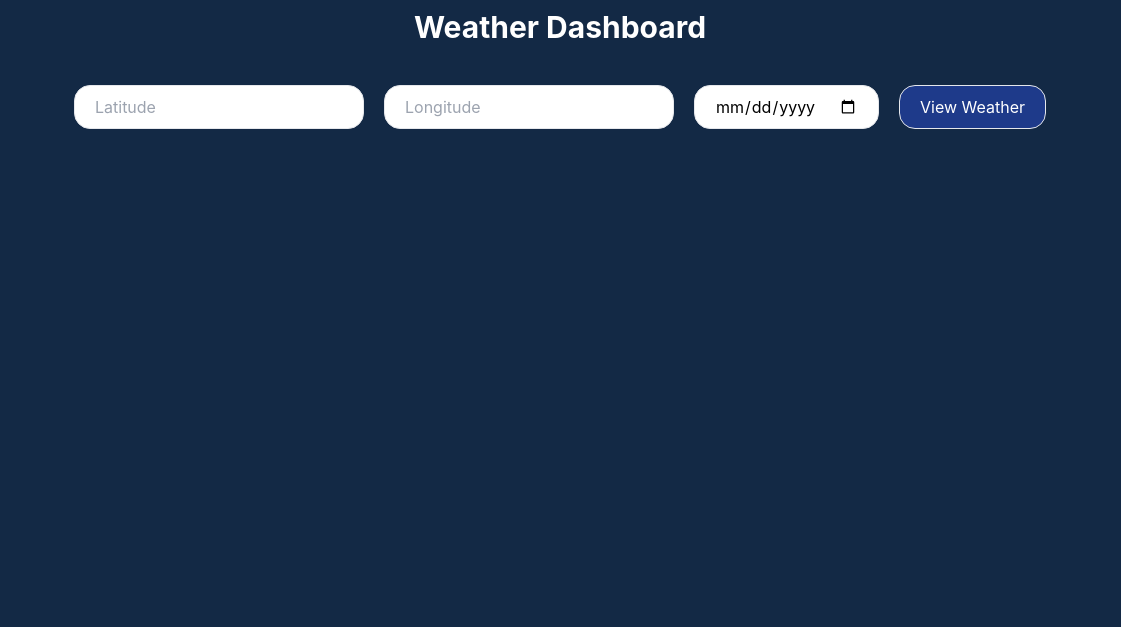
Test: fetches weather data
This screenshot has width=1121, height=627.
Type "57" into the number field with placeholder "Latitude" at x=219, y=107, box [74,85,364,129]
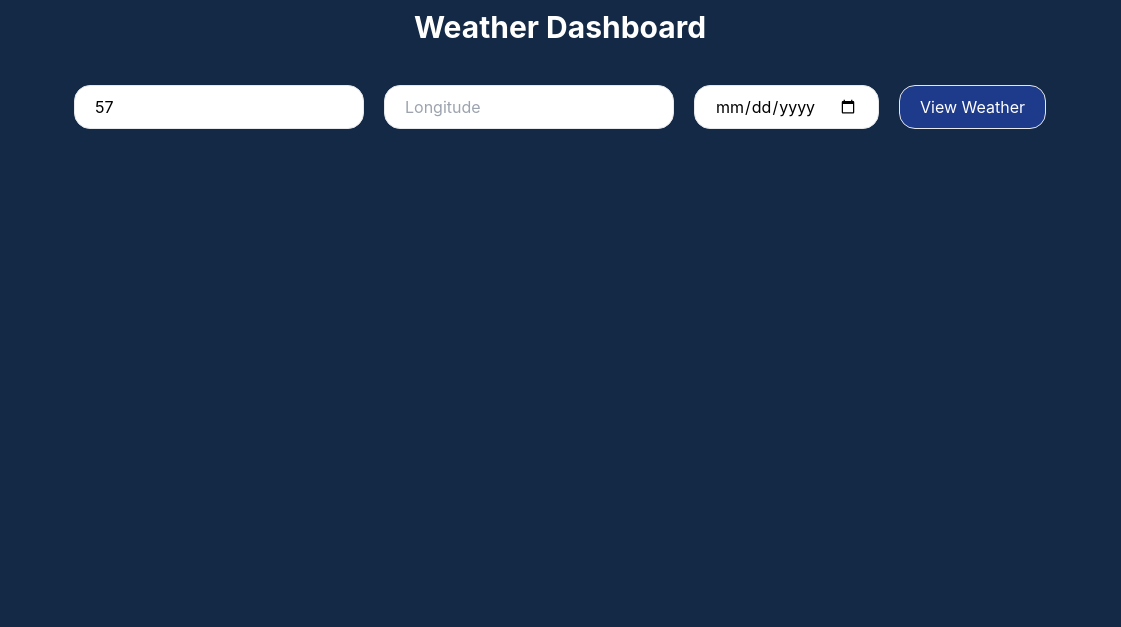
Type "54" into the number field with placeholder "Longitude" at x=529, y=107, box [384,85,674,129]
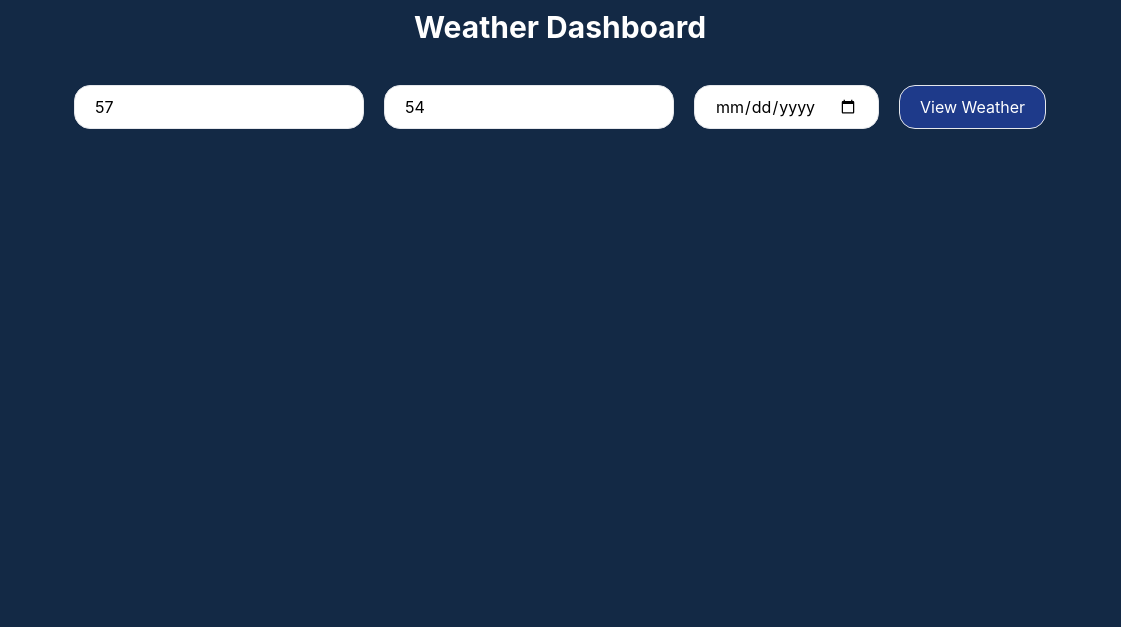
Type "2022-06-19" into the date field with placeholder "Date" at x=786, y=107, box [694,85,879,129]
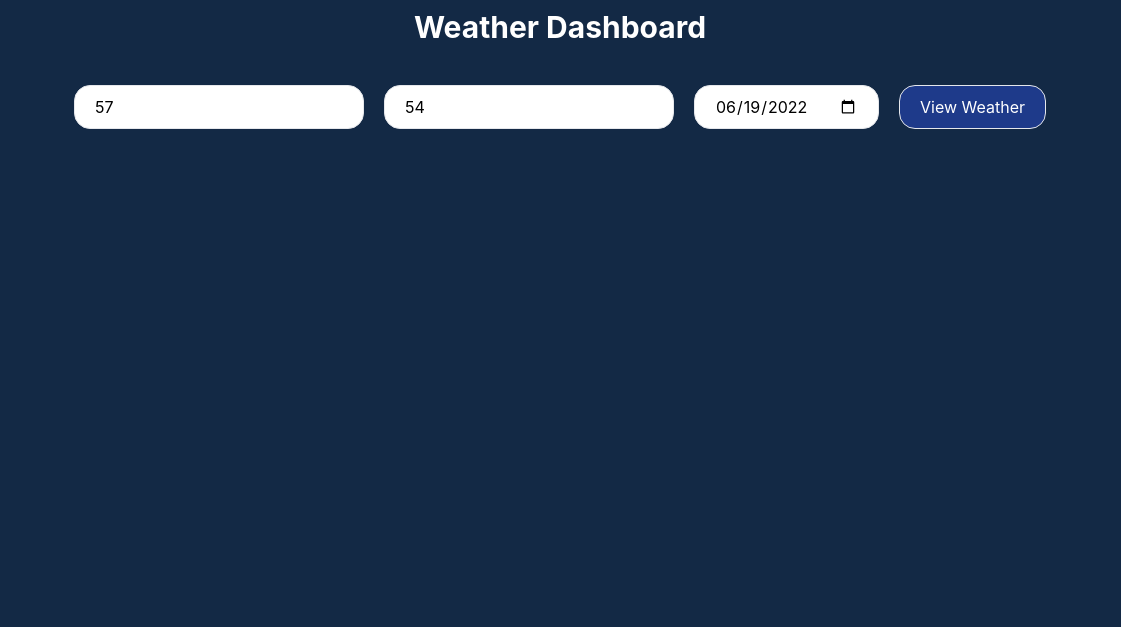
Click the button "View Weather" at x=972, y=107, box [899,85,1046,129]
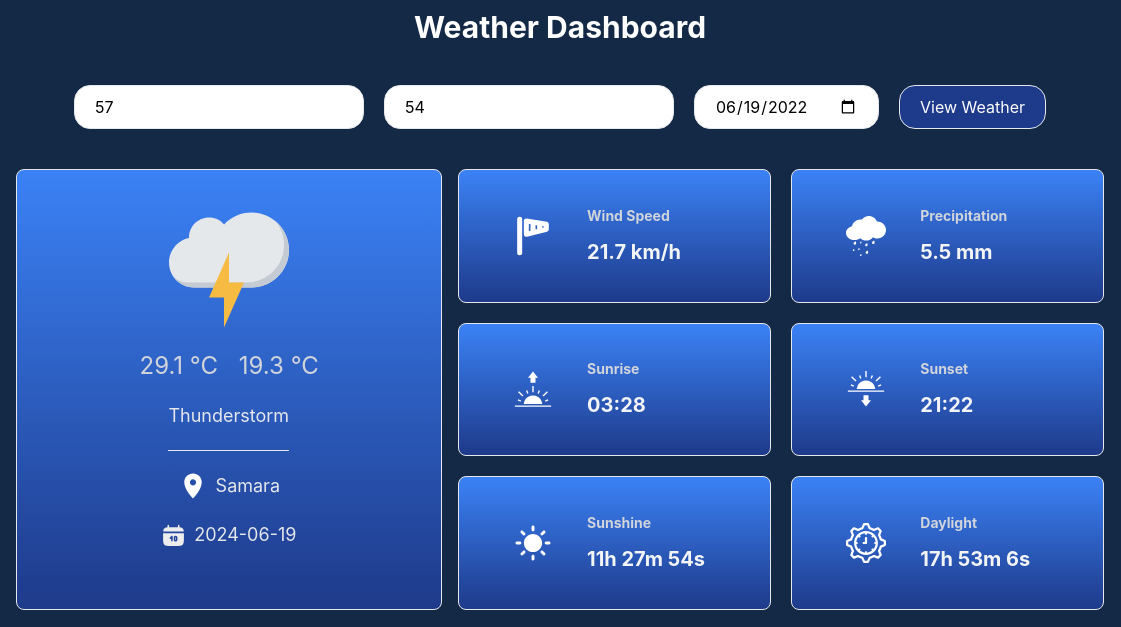
Now the text "Wind Speed" is shown, box [587,207,670,224]
